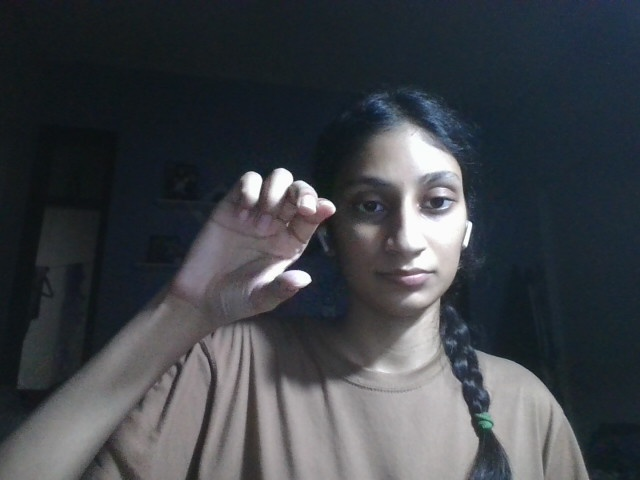no: (200, 166, 337, 318)
